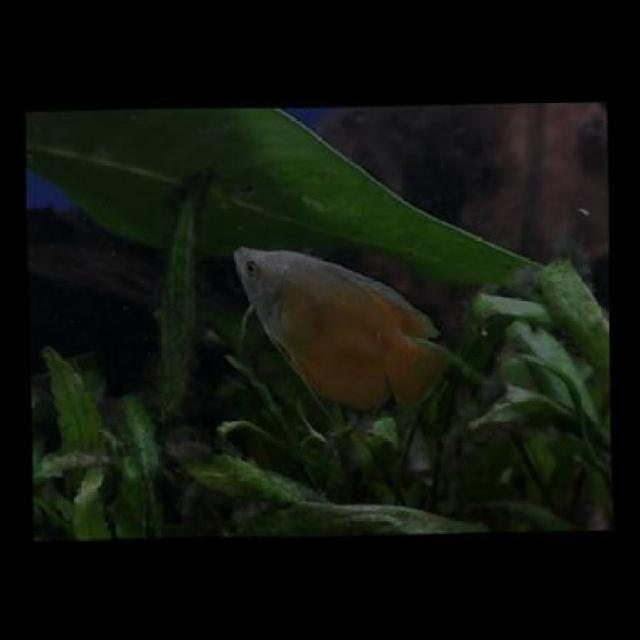Gourami: (231, 239, 452, 410)
